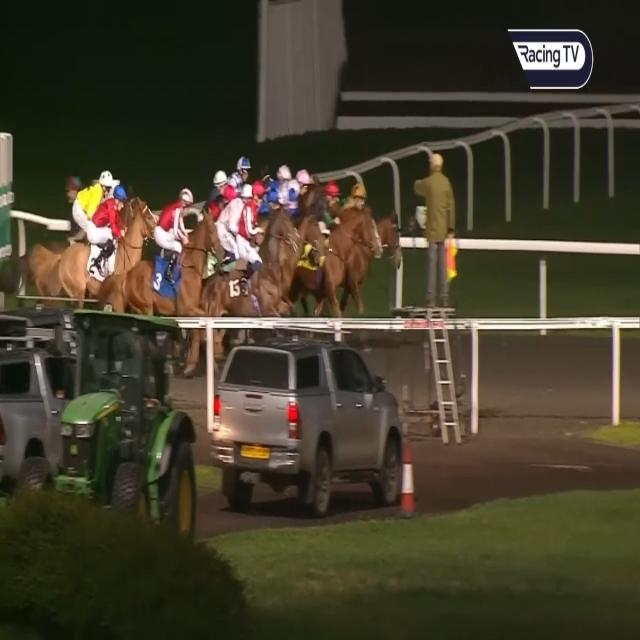horses-racing: (139, 188, 220, 324), (90, 184, 155, 313), (220, 185, 272, 322), (61, 171, 114, 305), (292, 178, 342, 309), (218, 179, 250, 277), (278, 167, 312, 211), (200, 165, 224, 212), (230, 150, 253, 197), (267, 156, 290, 203), (350, 180, 370, 213), (225, 170, 243, 199)
